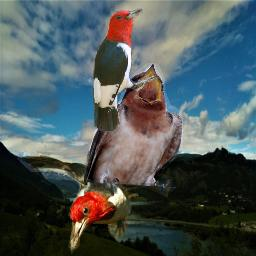Swallow: (84, 63, 183, 194)
Woodpecker: (13, 146, 171, 254), (92, 8, 158, 131)
